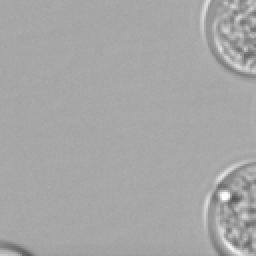picoshell: (202, 162, 254, 254), (200, 0, 254, 76), (0, 240, 32, 254)
